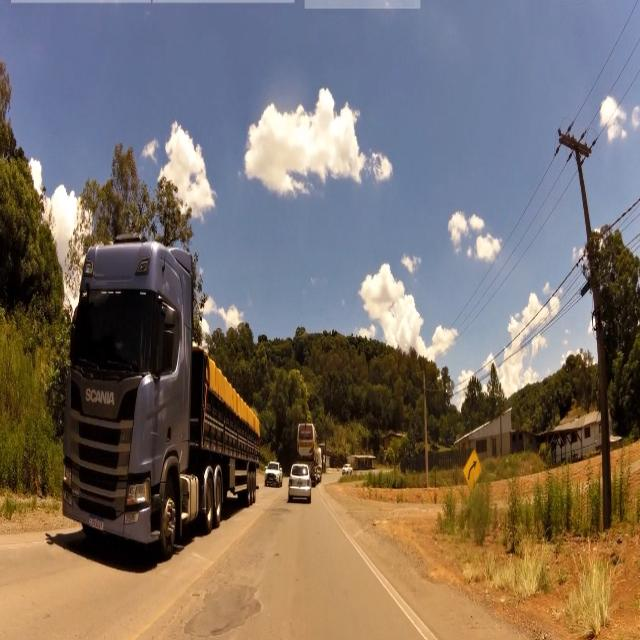A-2b: (464, 444, 482, 493)
